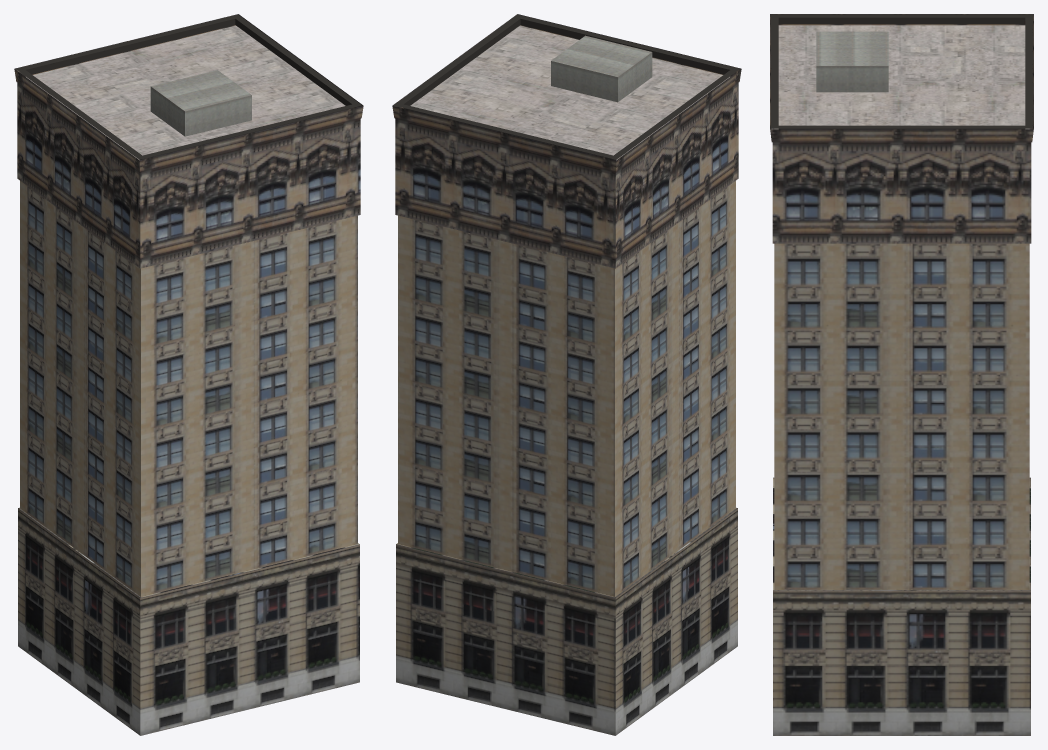
Rendered from building_45.obj.
The picture shows the model from 3 angles, left to right: view 1: azimuth 30°, elevation 25°; view 2: azimuth 150°, elevation 25°; view 3: azimuth 270°, elevation 25°; orthographic projection. The views are drawn at different scales.
Parts seen in each view (by area): view 1: BakedBuilding_342; view 2: BakedBuilding_342; view 3: BakedBuilding_342.
Boxes of the visible parts, <box> form: BakedBuilding_342: <box>14,14,363,735</box>; BakedBuilding_342: <box>392,14,741,735</box>; BakedBuilding_342: <box>770,14,1033,735</box>.
Size of the model in its own units: 57.95 by 147 by 56.05.
1 material, 1 textured.
